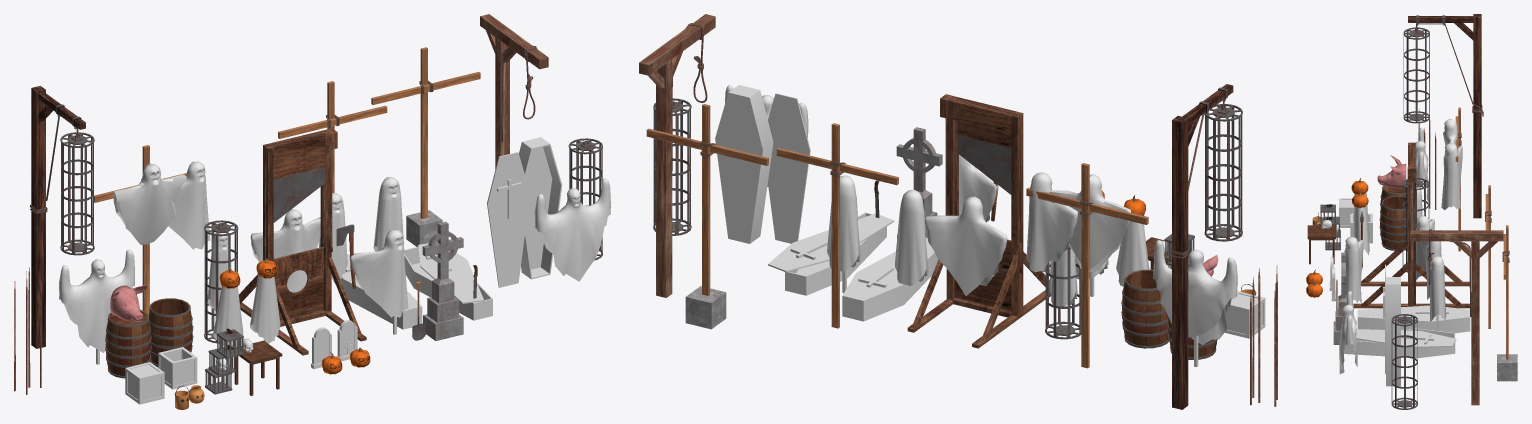
The model's file is SpookyPropStuff.fbx.
The picture shows the model from 3 angles, left to right: view 1: azimuth 30°, elevation 25°; view 2: azimuth 150°, elevation 25°; view 3: azimuth 270°, elevation 25°; orthographic projection. The views are drawn at different scales.
Visible parts, largest first — view 1: Prop_Guillotine, Prop_Gibbet, Prop_Ghost_E, Prop_BigCross_C, Prop_Coffin_Cover, Prop_Ghost_B, Prop_Coffin, Prop_Gallows, Prop_Ghost_C, Prop_BigCross_A, Prop_Tombstone_C, Prop_Coffin_B (+21 smaller); view 2: Prop_Guillotine, Prop_Gibbet, Prop_Coffin, Prop_Gallows, Prop_BigCross_C, Prop_Ghost_G, Prop_Coffin_Cover, Prop_Ghost_B, Prop_BigCross_A, Prop_Coffin_B, Prop_Coffin_A, Prop_Ghost_F (+11 smaller); view 3: Prop_Gibbet, Prop_Gallows, Prop_Guillotine, Prop_Coffin_B, Prop_Coffin_A, Prop_Gibbet_Cage_A, Prop_Coffin, Prop_Barrel_B, Prop_Ghost_F, Prop_BigCross_A, Prop_Ghost_C, Prop_Ghost_A (+17 smaller).
Boxes of the visible parts, x1,y1,x2,y2 form: Prop_Guillotine: [239, 128, 366, 355]; Prop_Gibbet: [30, 86, 94, 348]; Prop_Ghost_E: [534, 178, 610, 281]; Prop_BigCross_C: [94, 145, 186, 314]; Prop_Coffin_Cover: [487, 152, 530, 287]; Prop_Ghost_B: [59, 249, 134, 364]; Prop_Coffin: [519, 137, 562, 279]; Prop_Gallows: [480, 14, 548, 169]; Prop_Ghost_C: [349, 229, 408, 334]; Prop_BigCross_A: [371, 47, 480, 246]; Prop_Tombstone_C: [422, 221, 463, 340]; Prop_Coffin_B: [404, 242, 492, 320]; Prop_Guillotine: [907, 94, 1050, 348]; Prop_Gibbet: [1169, 84, 1242, 409]; Prop_Coffin: [715, 85, 773, 243]; Prop_Gallows: [639, 14, 715, 297]; Prop_BigCross_C: [1026, 163, 1148, 368]; Prop_Ghost_G: [925, 196, 1007, 295]; Prop_Coffin_Cover: [768, 93, 810, 243]; Prop_Ghost_B: [1153, 240, 1237, 367]; Prop_BigCross_A: [646, 104, 768, 329]; Prop_Coffin_B: [768, 212, 894, 295]; Prop_Coffin_A: [842, 237, 938, 321]; Prop_Ghost_F: [1026, 172, 1077, 272]; Prop_Gibbet: [1403, 14, 1483, 218]; Prop_Gallows: [1410, 229, 1503, 405]; Prop_Guillotine: [1353, 142, 1469, 308]; Prop_Coffin_B: [1344, 328, 1456, 358]; Prop_Coffin_A: [1357, 305, 1470, 333]; Prop_Gibbet_Cage_A: [1391, 314, 1417, 409]; Prop_Coffin: [1386, 277, 1400, 386]; Prop_Barrel_B: [1379, 196, 1407, 250]; Prop_Ghost_F: [1441, 143, 1462, 210]; Prop_BigCross_A: [1497, 225, 1517, 381]; Prop_Ghost_C: [1344, 237, 1363, 306]; Prop_Ghost_A: [1430, 256, 1446, 330].
Bounding box in the file's own units: 9.88 × 4.49 × 4.07.
